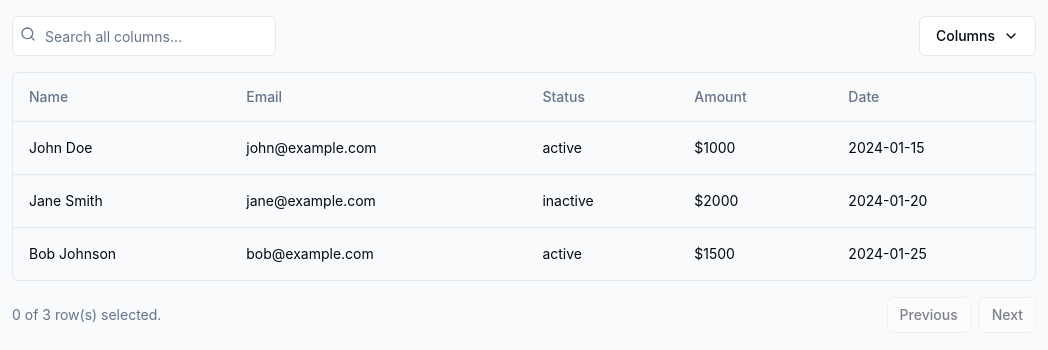
Test: EnhancedDataTable › handles global search
The width and height of the screenshot is (1048, 350).
In the field with placeholder "Search all columns...": coordinates (144, 36) [12, 16, 276, 56], type "John"
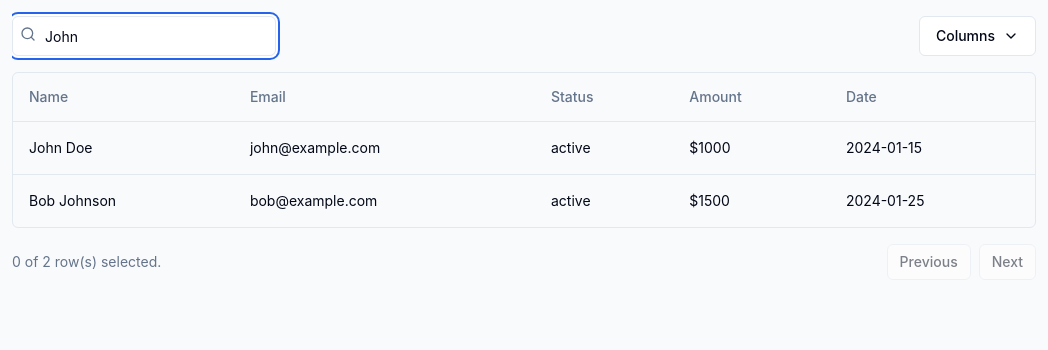
Expected: the text "John Doe" is shown, [13, 121, 234, 174]
Expected: the text "Jane Smith" is gone
